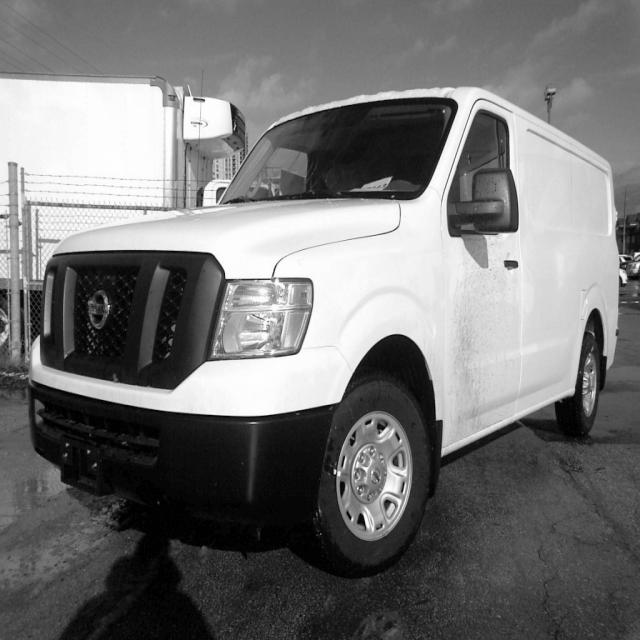car: (28, 85, 620, 577)
